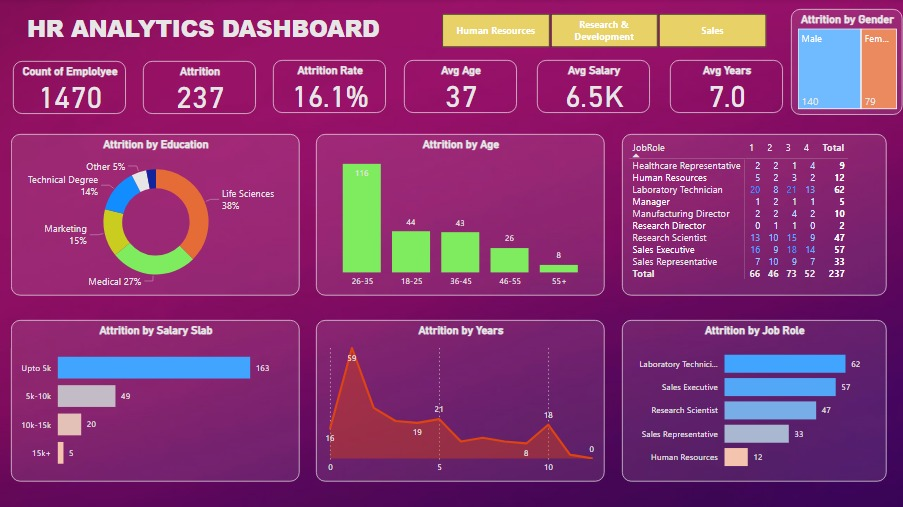

This screenshot's page, from the dashboard's own definition file:
{"tool":"powerbi","page":{"name":"Page 1","canvas":[1280,720],"ordinal":0},"visuals":[{"type":"card","title":"Count of Emplolyee","fields":{"Values":["CountNonNull(HR_Analytics.EmpID)"]},"box":[19.2,87.8,160,75.5],"z":0},{"type":"card","title":"Attrition","fields":{"Values":["Sum(HR_Analytics.AttritionCount)"]},"box":[204.7,87.8,160,75.5],"z":1000},{"type":"card","title":"Attrition Rate","fields":{"Values":["HR_Analytics.AttritionRate"]},"box":[388.6,86.4,160,75.5],"z":2000},{"type":"card","title":"Avg Age","fields":{"Values":["Avg(HR_Analytics.Age)"]},"box":[573.9,86.4,160,75.5],"z":3000},{"type":"card","title":"Avg Salary","fields":{"Values":["Avg(HR_Analytics.MonthlyIncome)"]},"box":[763.2,86.4,160,75.5],"z":4000},{"type":"card","title":"Avg Years","fields":{"Values":["Avg(HR_Analytics.YearsAtCompany)"]},"box":[951.2,86.4,160,75.5],"z":5000},{"type":"donutChart","title":"Attrition by Education","fields":{"Category":["HR_Analytics.EducationField"],"Y":["Sum(HR_Analytics.AttritionCount)"]},"box":[16.5,190.7,408.9,229.2],"z":6000},{"type":"columnChart","title":"Attrition by Age","fields":{"Category":["HR_Analytics.AgeGroup"],"Y":["Sum(HR_Analytics.AttritionCount)"]},"box":[448.7,190.7,408.9,229.2],"z":7000},{"type":"pivotTable","fields":{"Rows":["HR_Analytics.JobRole"],"Columns":["HR_Analytics.JobSatisfaction"],"Values":["Sum(HR_Analytics.AttritionCount)"]},"box":[882.3,190.7,374.6,229.2],"z":8000},{"type":"barChart","title":"Attrition by Salary Slab","fields":{"Category":["HR_Analytics.SalarySlab"],"Y":["Sum(HR_Analytics.AttritionCount)"]},"box":[16.5,455.6,408.9,229.2],"z":9000},{"type":"barChart","title":"Attrition by Job Role","fields":{"Y":["Sum(HR_Analytics.AttritionCount)"],"Category":["HR_Analytics.JobRole"]},"box":[882.3,455.6,374.6,229.2],"z":10000},{"type":"areaChart","title":"Attrition by Years","fields":{"Category":["HR_Analytics.YearsAtCompany"],"Y":["Sum(HR_Analytics.AttritionCount)"]},"box":[448.7,455.6,408.9,229.2],"z":11000},{"type":"treemap","title":"Attrition by Gender","fields":{"Group":["HR_Analytics.Gender"],"Values":["Sum(HR_Analytics.AttritionCount)"]},"box":[1122.5,13.7,157.8,149.6],"z":12000},{"type":"slicer","fields":{"Values":["HR_Analytics.Department"]},"box":[602.4,14.2,508.8,60.9],"z":13000},{"type":"textbox","box":[19.2,13.7,539.3,61.7],"z":14000}]}

Visuals, with their boxes in screenshot pixels (x1, y1, x2, y2), scaled from the page's 1280x720 canvas onto the 903x507 screenshot:
"Count of Emplolyee" card: {"left": 14, "top": 62, "right": 126, "bottom": 115}
"Attrition" card: {"left": 144, "top": 62, "right": 257, "bottom": 115}
"Attrition Rate" card: {"left": 274, "top": 61, "right": 387, "bottom": 114}
"Avg Age" card: {"left": 405, "top": 61, "right": 518, "bottom": 114}
"Avg Salary" card: {"left": 538, "top": 61, "right": 651, "bottom": 114}
"Avg Years" card: {"left": 671, "top": 61, "right": 784, "bottom": 114}
"Attrition by Education" donutChart: {"left": 12, "top": 134, "right": 300, "bottom": 296}
"Attrition by Age" columnChart: {"left": 317, "top": 134, "right": 605, "bottom": 296}
pivotTable - HR_Analytics.JobRole x HR_Analytics.JobSatisfaction: {"left": 622, "top": 134, "right": 887, "bottom": 296}
"Attrition by Salary Slab" barChart: {"left": 12, "top": 321, "right": 300, "bottom": 482}
"Attrition by Job Role" barChart: {"left": 622, "top": 321, "right": 887, "bottom": 482}
"Attrition by Years" areaChart: {"left": 317, "top": 321, "right": 605, "bottom": 482}
"Attrition by Gender" treemap: {"left": 792, "top": 10, "right": 902, "bottom": 115}
slicer - HR_Analytics.Department: {"left": 425, "top": 10, "right": 784, "bottom": 53}
textbox: {"left": 14, "top": 10, "right": 394, "bottom": 53}
